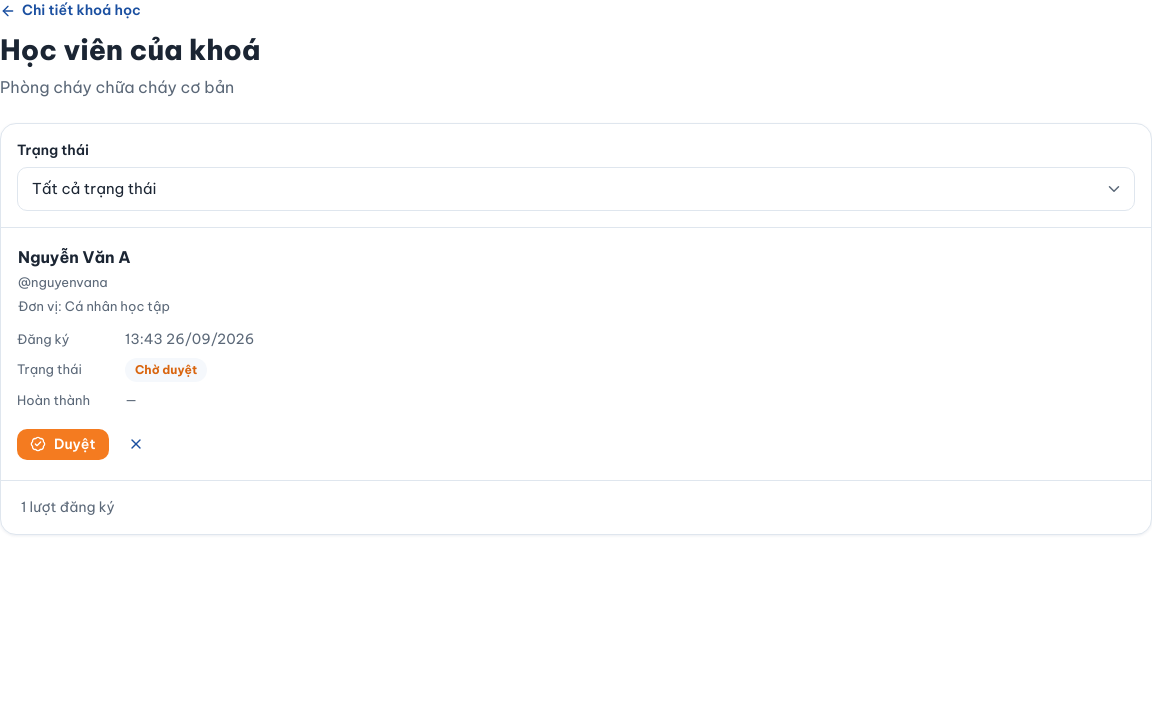
CourseEnrollmentsPage › approves a learner after checking the transfer
This screenshot has width=1152, height=720.
What coordinates should you click on to do the following:
click the button with aria-label "Duyệt Nguyễn Văn A vào học"
I would click on:
 (63, 444)
Its box is [17,429,108,460].
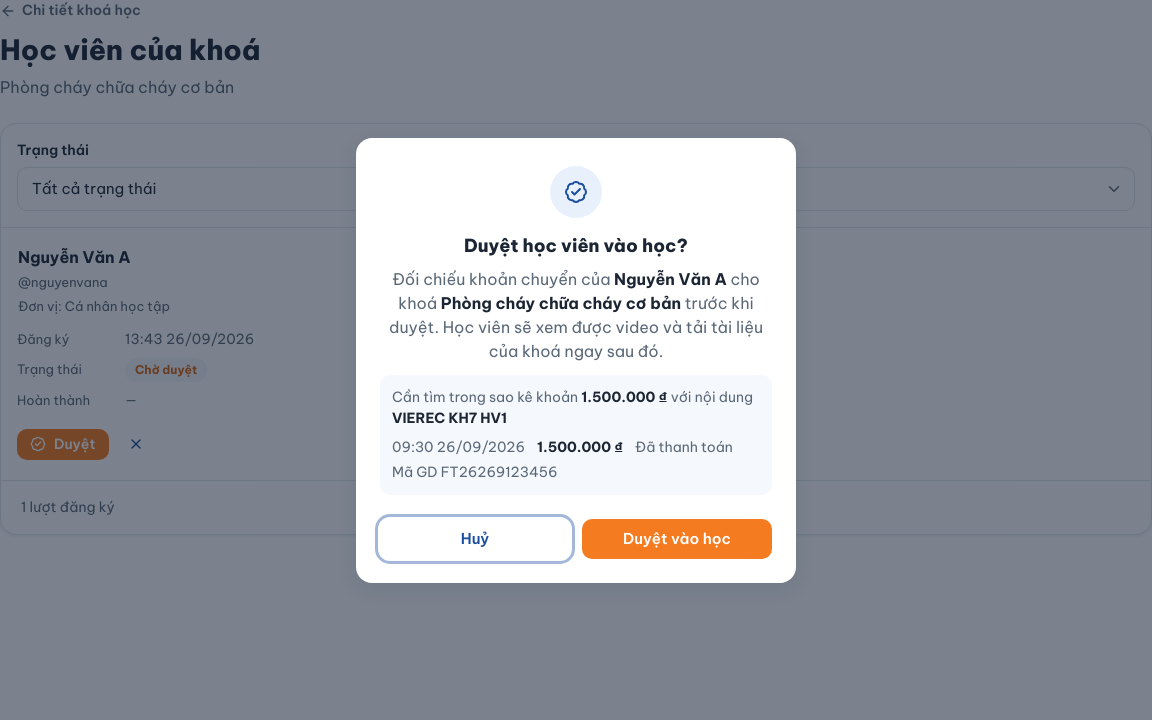
Expected: the text "FT26269123456" is shown, [441,462,558,480]
What coordinates should you click on to do the following:
click the button "Duyệt vào học"
I would click on:
 (677, 538)
Its box is [582,518,772,558].
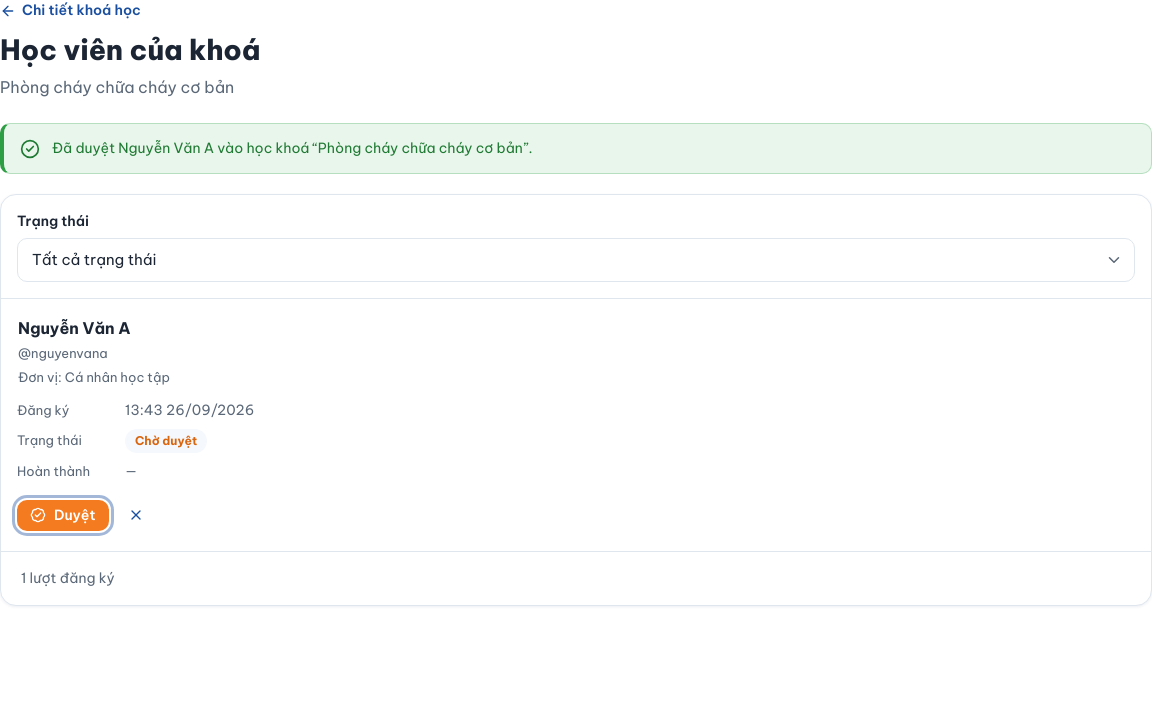
Expected: the text "Đã duyệt Nguyễn Văn A vào học khoá" is shown, [52,139,532,157]
